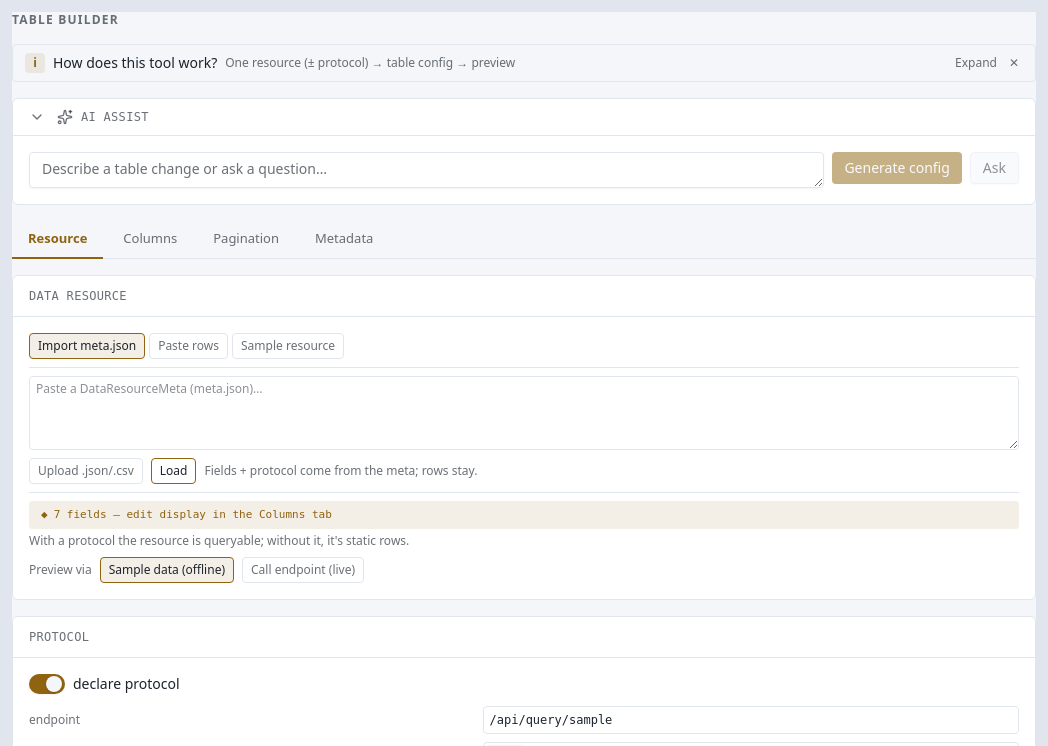
Test: TableBuilderTool › toggling the protocol off falls back to static rows (still renders)
Click the switch named "declare protocol".
click(47, 684)  # box [29, 674, 65, 694]
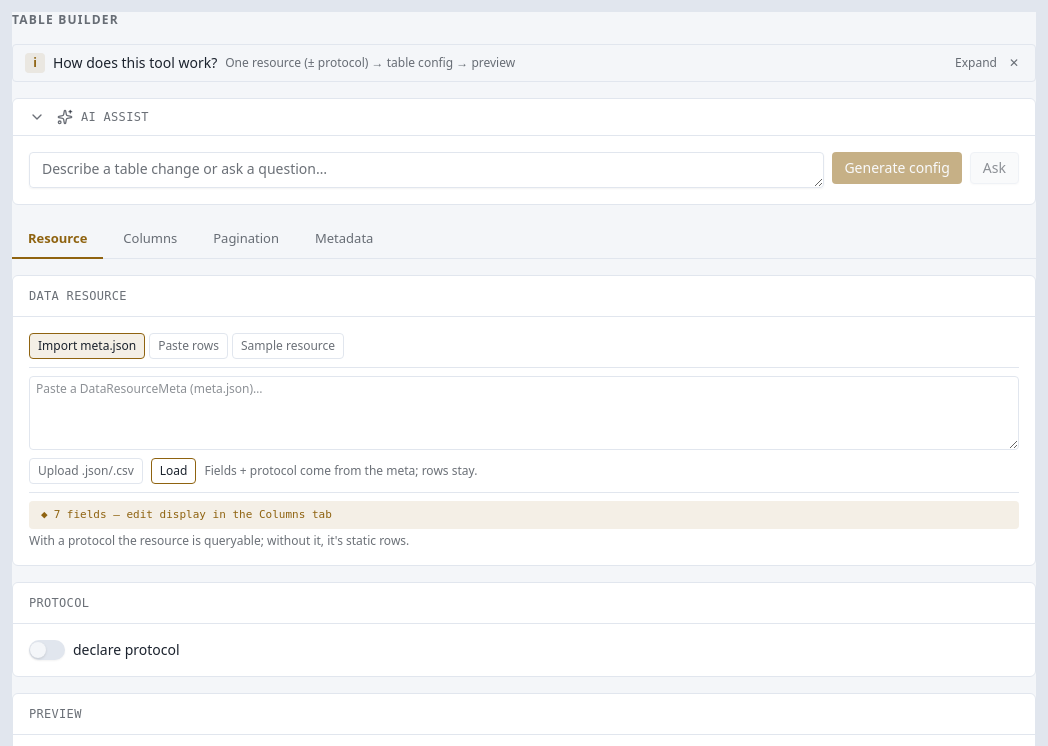
Now the button "Call endpoint" is gone
